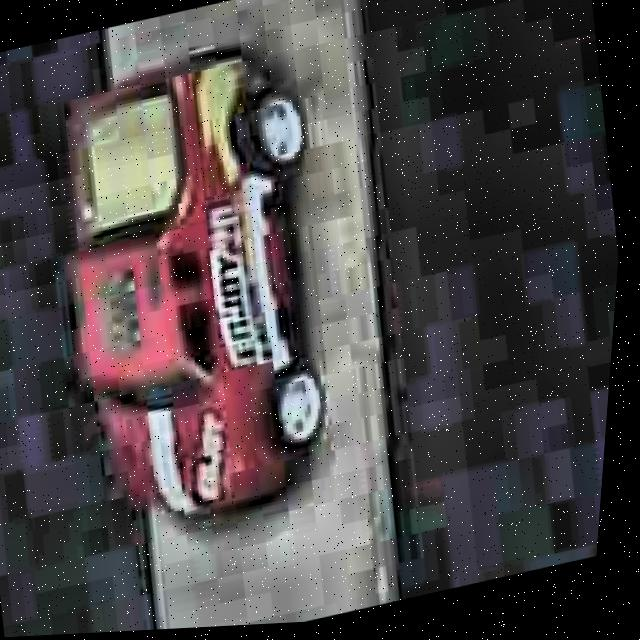car: (5, 24, 380, 557)
